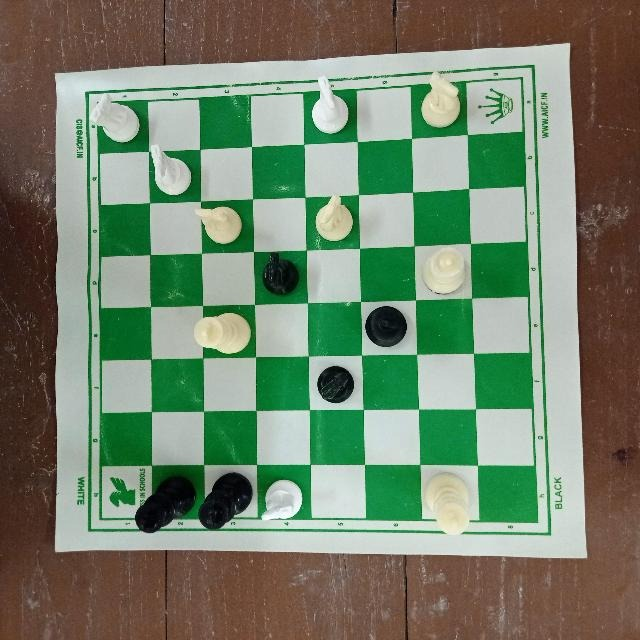black-king: (134, 472, 193, 531), (199, 474, 255, 532), (361, 302, 410, 351)
black-knight: (254, 244, 306, 299), (307, 363, 363, 407)
white-king: (421, 470, 477, 542), (192, 307, 254, 357)
white-knight: (303, 71, 355, 139), (416, 69, 465, 127), (145, 141, 197, 195), (88, 92, 140, 146), (259, 474, 306, 528), (309, 194, 357, 244), (195, 202, 245, 246)
white-queen: (421, 242, 473, 296)
